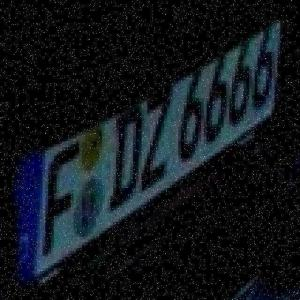Plate: (7, 4, 285, 300)
